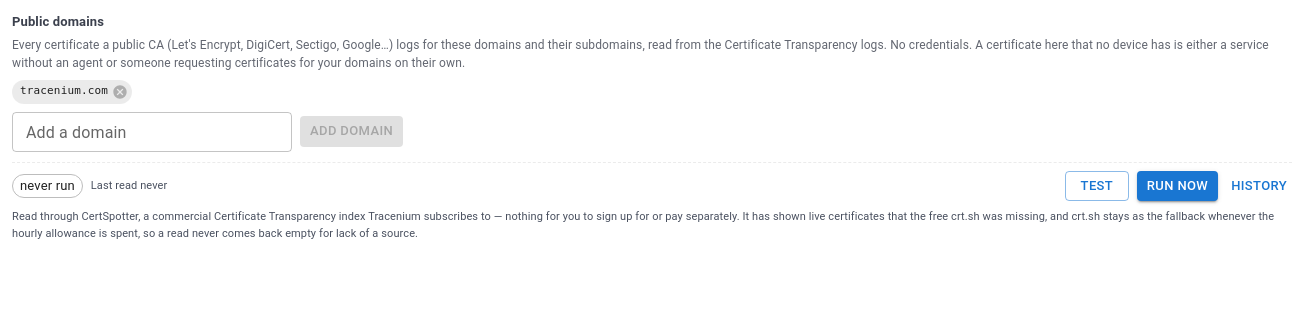
Test: CdpPublicDomains › el historial de lecturas se despliega aquí
Click the button "History" at (1259, 186), box left=1226, top=170, right=1292, bottom=201
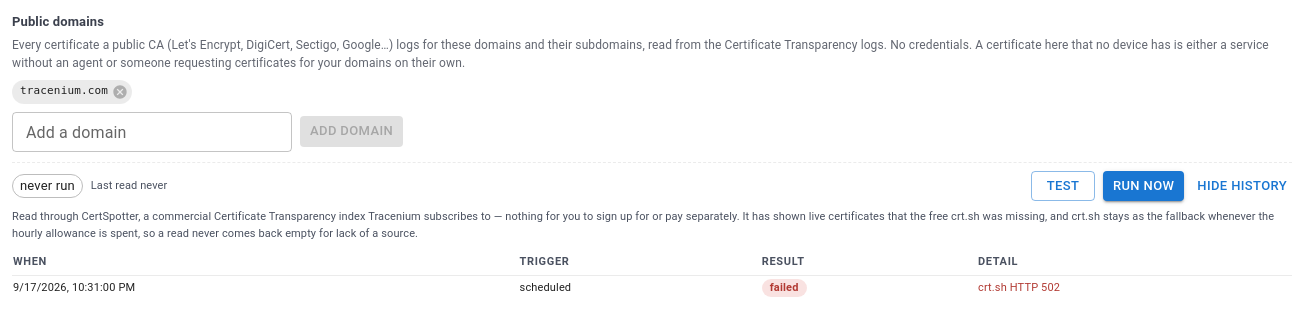
Expected: the text "crt.sh HTTP 502" is shown, left=977, top=275, right=1292, bottom=300
